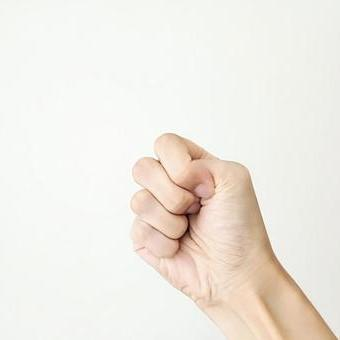gu-: (129, 132, 260, 288)
